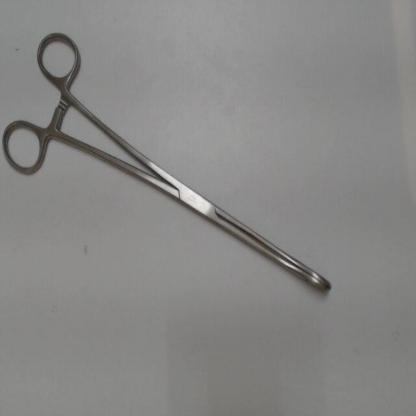Sponge Forceps: (0, 24, 341, 298)
